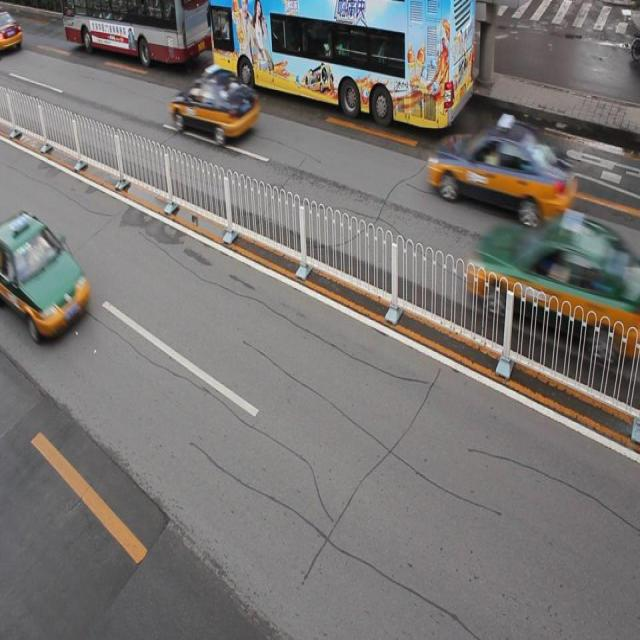car: (468, 215, 640, 347), (428, 122, 574, 224), (1, 208, 88, 336), (171, 66, 258, 144), (1, 11, 24, 55)
van: (209, 1, 474, 128), (61, 1, 217, 64)
